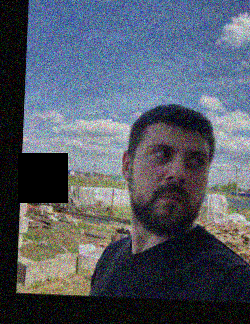without_mask: (139, 136, 209, 236)
